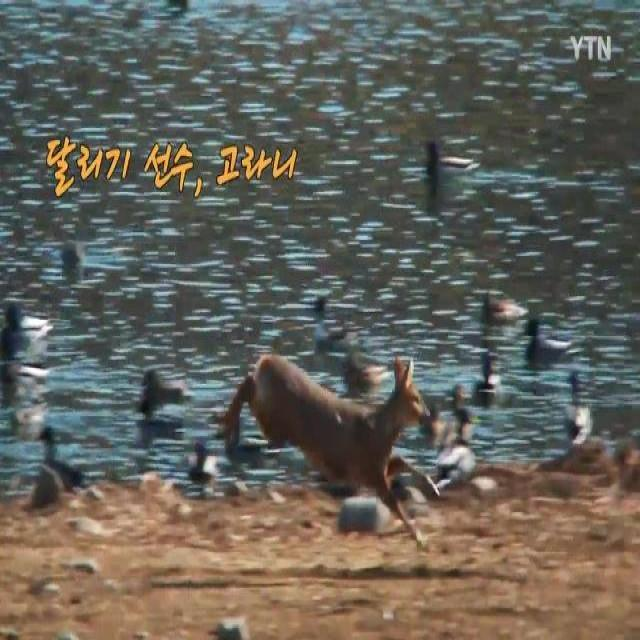deer: (226, 354, 441, 557)
